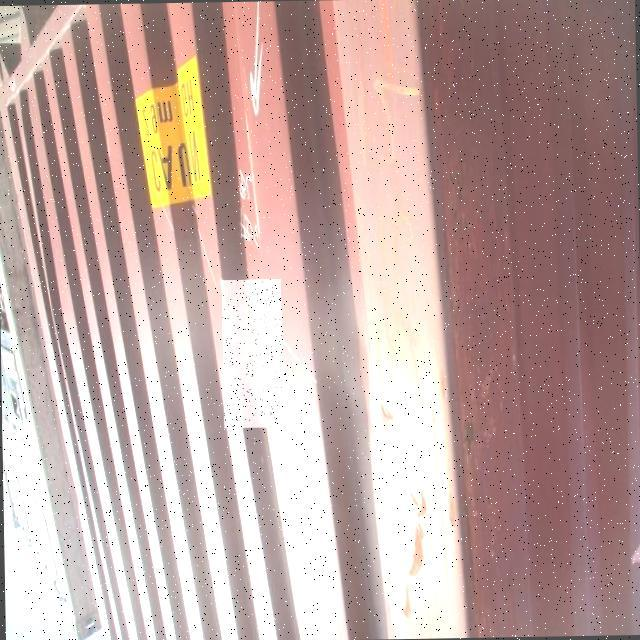Minor-Dent: (221, 278, 283, 427)
